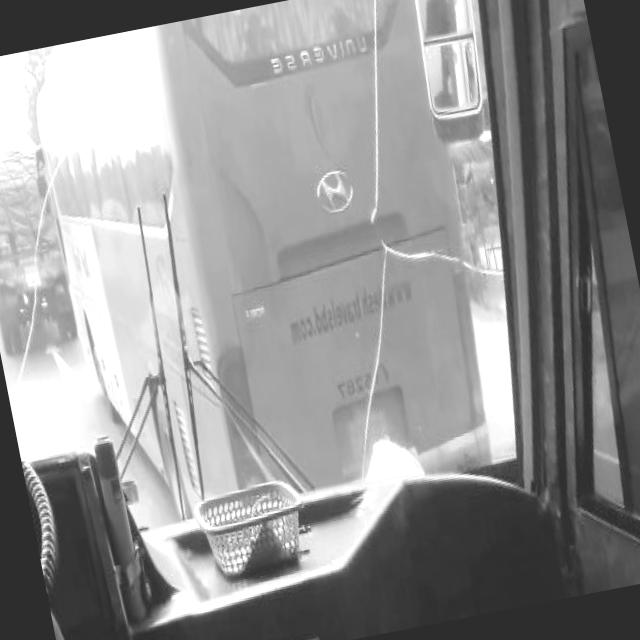bus: (23, 0, 499, 523)
truck: (0, 128, 80, 353)
